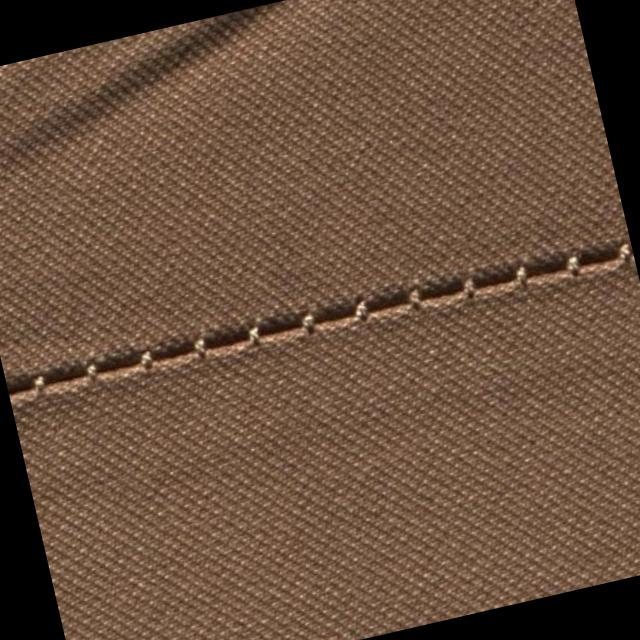gray stitch: (6, 218, 640, 427)
